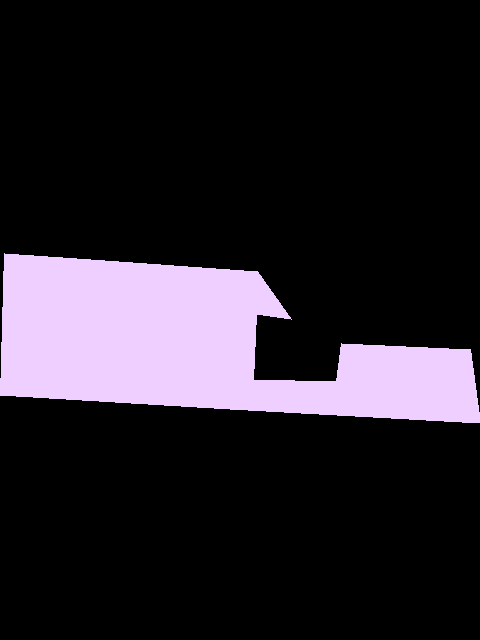Train: (0, 253, 480, 424)
